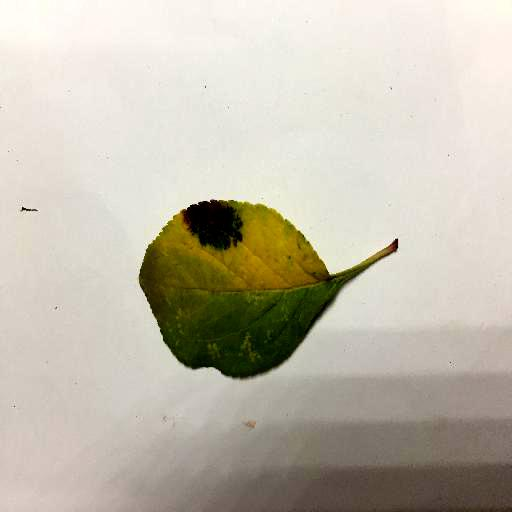Brown_Spot: (179, 205, 245, 252)
